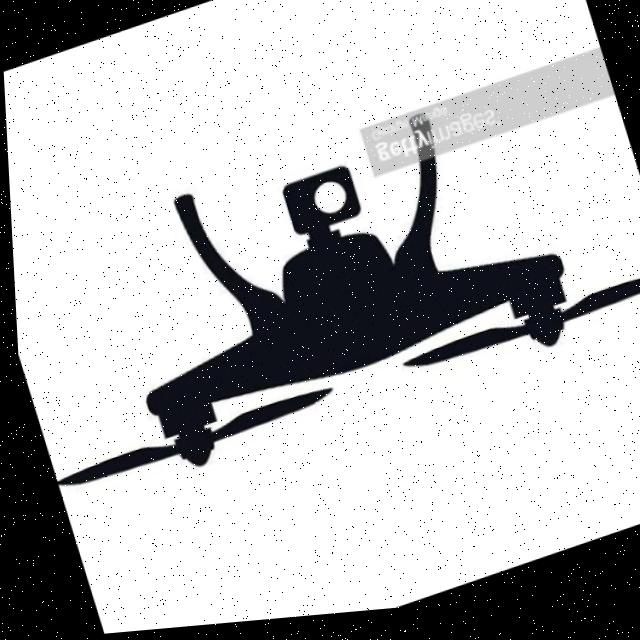drones: (4, 42, 640, 526)
